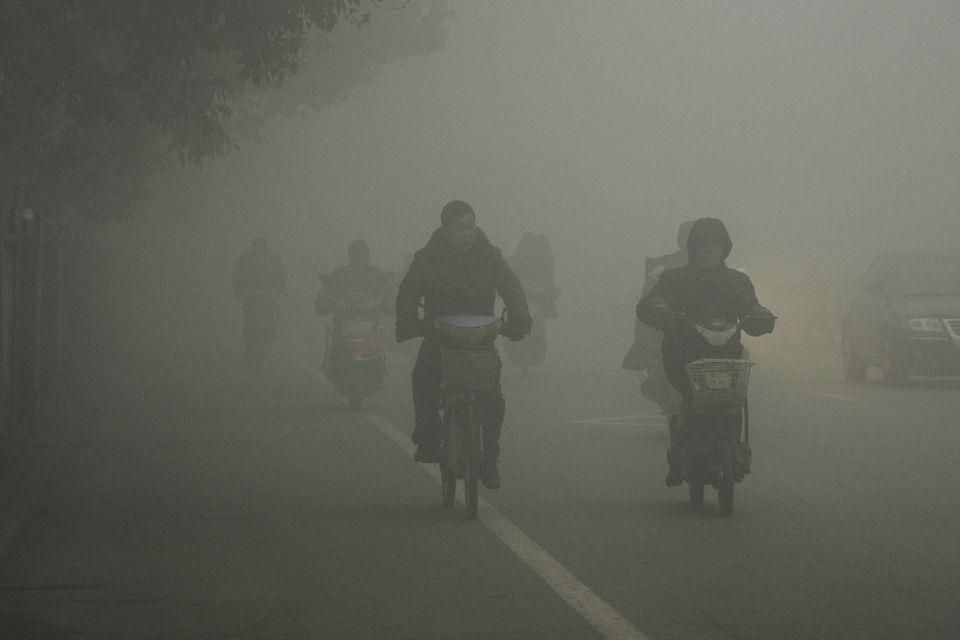backpack: (398, 195, 536, 495), (632, 214, 773, 467), (457, 210, 564, 419), (401, 220, 533, 372), (650, 238, 754, 391), (676, 269, 765, 425), (386, 223, 458, 409), (665, 316, 747, 477), (411, 199, 529, 306), (428, 247, 509, 390), (432, 309, 501, 469), (491, 234, 554, 405), (412, 241, 523, 330), (459, 229, 537, 352), (642, 318, 741, 414), (647, 263, 775, 337), (623, 246, 684, 396), (626, 291, 718, 388), (397, 247, 482, 343), (389, 272, 440, 422), (474, 222, 555, 316), (629, 264, 709, 351), (634, 328, 694, 443), (636, 295, 745, 357), (502, 227, 559, 345), (419, 270, 501, 349), (321, 300, 384, 401), (323, 256, 381, 361), (644, 259, 745, 314), (625, 319, 681, 414), (709, 265, 777, 338), (391, 247, 440, 345), (382, 266, 431, 364), (619, 294, 669, 388), (422, 221, 499, 279), (632, 251, 681, 341), (424, 238, 495, 300), (493, 256, 540, 349), (636, 233, 688, 315), (320, 243, 379, 314), (627, 270, 668, 358), (617, 334, 663, 409), (317, 284, 369, 349), (645, 331, 688, 407), (331, 298, 378, 366), (429, 306, 500, 349), (334, 270, 385, 329), (345, 296, 393, 355), (637, 348, 678, 411), (617, 318, 658, 380), (405, 284, 444, 348), (410, 390, 443, 465), (393, 278, 431, 342), (377, 282, 416, 344), (315, 272, 371, 314), (640, 250, 683, 299), (495, 287, 533, 341), (635, 284, 677, 331), (662, 412, 687, 488), (636, 254, 668, 311), (722, 423, 751, 485), (740, 300, 776, 337), (408, 293, 435, 338), (311, 271, 334, 318), (401, 294, 423, 336), (732, 437, 751, 483)
bench: (392, 205, 542, 466), (395, 235, 544, 340), (317, 297, 384, 409), (431, 313, 499, 349)
bicycle: (402, 253, 524, 510), (450, 249, 559, 510), (387, 321, 487, 483), (390, 248, 464, 465), (423, 330, 509, 515), (677, 336, 748, 507), (429, 310, 505, 436), (412, 342, 471, 491), (434, 369, 487, 516), (403, 306, 449, 471), (317, 297, 384, 409), (453, 384, 501, 508), (439, 349, 496, 452), (419, 390, 465, 501), (403, 349, 437, 451), (411, 369, 445, 465), (437, 388, 464, 475), (661, 410, 687, 488)
boat: (319, 298, 385, 408)
book: (430, 312, 499, 344)
bus: (838, 254, 956, 384)
car: (384, 202, 538, 479), (621, 227, 811, 416), (306, 200, 517, 368), (684, 242, 899, 404), (385, 234, 553, 378), (245, 249, 409, 383), (326, 239, 447, 419), (312, 283, 421, 464), (304, 241, 394, 419), (838, 254, 956, 384), (401, 250, 531, 338), (371, 259, 431, 430), (299, 274, 390, 369), (856, 305, 960, 382), (314, 241, 387, 350), (320, 299, 385, 408), (502, 227, 559, 345), (832, 270, 890, 382), (841, 296, 911, 384), (834, 304, 874, 384), (392, 271, 427, 343)
chair: (401, 206, 542, 503), (432, 309, 501, 469), (316, 241, 391, 361), (317, 297, 384, 409), (502, 227, 559, 345), (330, 298, 381, 368), (431, 313, 498, 350)
dog: (632, 214, 773, 467), (321, 300, 385, 406)
fire hydrant: (436, 352, 499, 513), (404, 300, 448, 468)
handbag: (407, 226, 531, 417), (642, 245, 760, 373), (410, 218, 529, 321), (434, 271, 503, 433), (420, 254, 517, 357), (656, 311, 748, 415), (444, 241, 543, 335), (394, 247, 450, 408), (629, 281, 697, 405), (667, 261, 778, 336), (397, 247, 482, 343), (635, 278, 758, 344), (620, 250, 676, 378), (629, 264, 709, 351), (321, 255, 385, 359), (497, 234, 552, 352), (324, 296, 384, 379), (493, 286, 549, 373), (391, 249, 439, 348), (509, 228, 559, 316), (625, 329, 677, 413), (320, 243, 379, 314), (489, 254, 535, 342), (632, 304, 678, 384), (636, 239, 689, 308), (615, 298, 660, 378), (635, 256, 679, 333), (332, 281, 376, 356), (645, 331, 688, 407), (334, 270, 385, 329), (617, 329, 660, 397), (628, 284, 671, 346), (431, 309, 500, 346), (393, 275, 428, 343), (636, 358, 679, 411), (495, 287, 533, 341), (400, 293, 438, 344), (662, 412, 687, 488), (639, 252, 675, 303), (634, 293, 681, 332), (692, 319, 742, 353), (739, 292, 776, 337), (724, 434, 751, 485), (395, 295, 420, 340), (311, 271, 334, 318), (408, 293, 428, 335)
horse: (667, 333, 756, 513), (317, 297, 384, 409), (502, 227, 559, 345)
motorcycle: (429, 244, 801, 515), (574, 248, 869, 500), (396, 199, 542, 509), (326, 237, 484, 505), (370, 329, 577, 509), (621, 227, 811, 416), (631, 250, 766, 507), (450, 249, 559, 510), (379, 235, 508, 451), (406, 308, 513, 515), (316, 298, 420, 479), (304, 262, 409, 428), (391, 282, 472, 493), (667, 333, 756, 513), (395, 249, 544, 356), (641, 296, 727, 458), (341, 277, 434, 424), (647, 279, 756, 399), (312, 245, 386, 383), (439, 364, 497, 518), (413, 357, 471, 502), (701, 373, 756, 512), (678, 405, 746, 513), (319, 298, 384, 409), (401, 311, 444, 475), (502, 227, 559, 345), (661, 403, 717, 506), (323, 287, 391, 349), (410, 366, 447, 470), (711, 425, 751, 512), (331, 298, 378, 366), (392, 272, 427, 343), (662, 412, 687, 488)
person: (477, 205, 767, 507), (395, 195, 537, 496), (326, 237, 484, 505), (215, 237, 390, 471), (632, 214, 773, 467), (306, 200, 517, 368), (376, 252, 504, 464), (452, 228, 556, 473), (643, 312, 761, 514), (406, 308, 513, 515), (311, 290, 424, 482), (352, 231, 446, 456), (401, 220, 533, 372), (225, 227, 351, 371), (275, 234, 385, 397), (209, 223, 300, 405), (304, 258, 399, 430), (668, 236, 768, 396), (613, 231, 702, 402), (643, 217, 770, 332), (641, 296, 727, 458), (635, 246, 732, 386), (400, 200, 522, 302), (345, 301, 434, 429), (841, 259, 931, 382), (353, 236, 439, 356), (436, 352, 499, 513), (681, 366, 746, 514), (459, 229, 537, 352), (391, 273, 442, 456), (285, 231, 375, 334), (247, 225, 323, 344), (644, 332, 699, 491), (312, 241, 386, 358), (375, 246, 431, 397), (391, 224, 471, 328), (314, 289, 385, 402), (416, 372, 473, 512), (233, 229, 294, 354), (393, 234, 447, 372), (659, 366, 715, 496), (620, 250, 676, 378), (405, 321, 450, 479), (502, 227, 559, 345), (630, 330, 683, 456), (280, 247, 339, 359), (631, 239, 687, 344), (621, 315, 677, 413), (306, 256, 354, 358), (638, 222, 694, 303), (273, 241, 327, 320), (328, 238, 384, 313), (241, 255, 279, 360), (392, 259, 435, 344), (251, 241, 292, 330), (338, 260, 382, 341), (269, 250, 310, 336), (234, 231, 283, 302), (323, 306, 384, 363), (357, 252, 395, 327), (315, 322, 373, 370), (662, 412, 687, 488), (312, 263, 346, 318), (639, 252, 675, 303), (304, 263, 332, 317)
skateboard: (439, 364, 497, 518), (320, 299, 384, 407), (337, 302, 380, 360), (430, 312, 499, 344)
skis: (392, 204, 544, 483), (317, 297, 384, 409)
snowboard: (630, 213, 771, 474), (318, 296, 385, 408), (315, 274, 374, 373), (333, 307, 381, 361)
suitcase: (401, 250, 531, 338), (681, 354, 748, 510), (502, 227, 559, 345), (321, 255, 385, 359), (615, 254, 669, 377), (321, 300, 384, 401), (621, 315, 677, 413), (331, 298, 378, 366), (431, 309, 500, 346), (393, 275, 428, 343), (635, 284, 677, 331), (662, 412, 687, 488), (718, 432, 750, 489)
surfboard: (430, 312, 499, 344)
truck: (392, 205, 542, 466), (306, 200, 517, 368), (621, 209, 811, 381), (395, 235, 544, 340), (838, 254, 956, 384), (317, 297, 384, 409)
